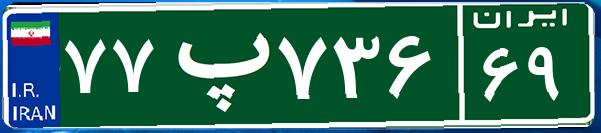3: (330, 28, 385, 110)
6: (385, 28, 445, 110), (475, 38, 525, 113)
7: (273, 28, 330, 110), (57, 26, 110, 107), (110, 28, 158, 105)
9: (525, 38, 570, 115)
پ: (158, 15, 273, 115)
